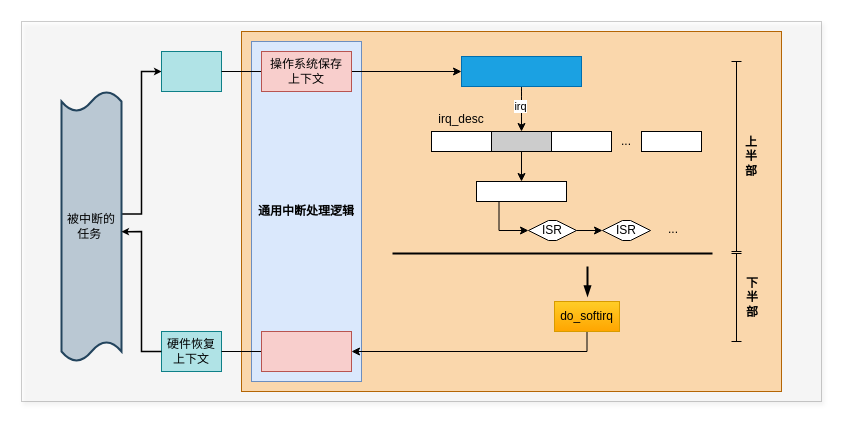
This 845x426 diagram has some shape labels left out. Here are the shapes that lost their labels. From the top down, the centre of each, then its label:
(191,71): 硬件保存上下文
(521,71): handle_domain_irq
(521,191): handle_irq
(306,351): 操作系统恢复 上下文
